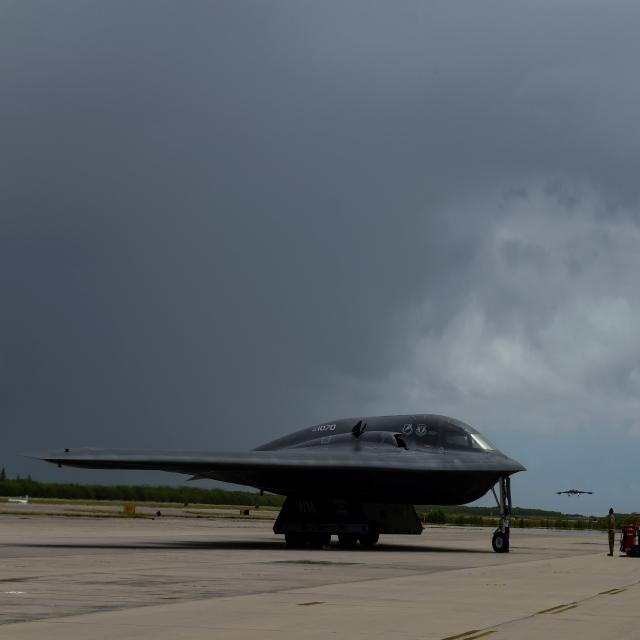MIL_Plane: (17, 414, 527, 552), (554, 489, 594, 496)
